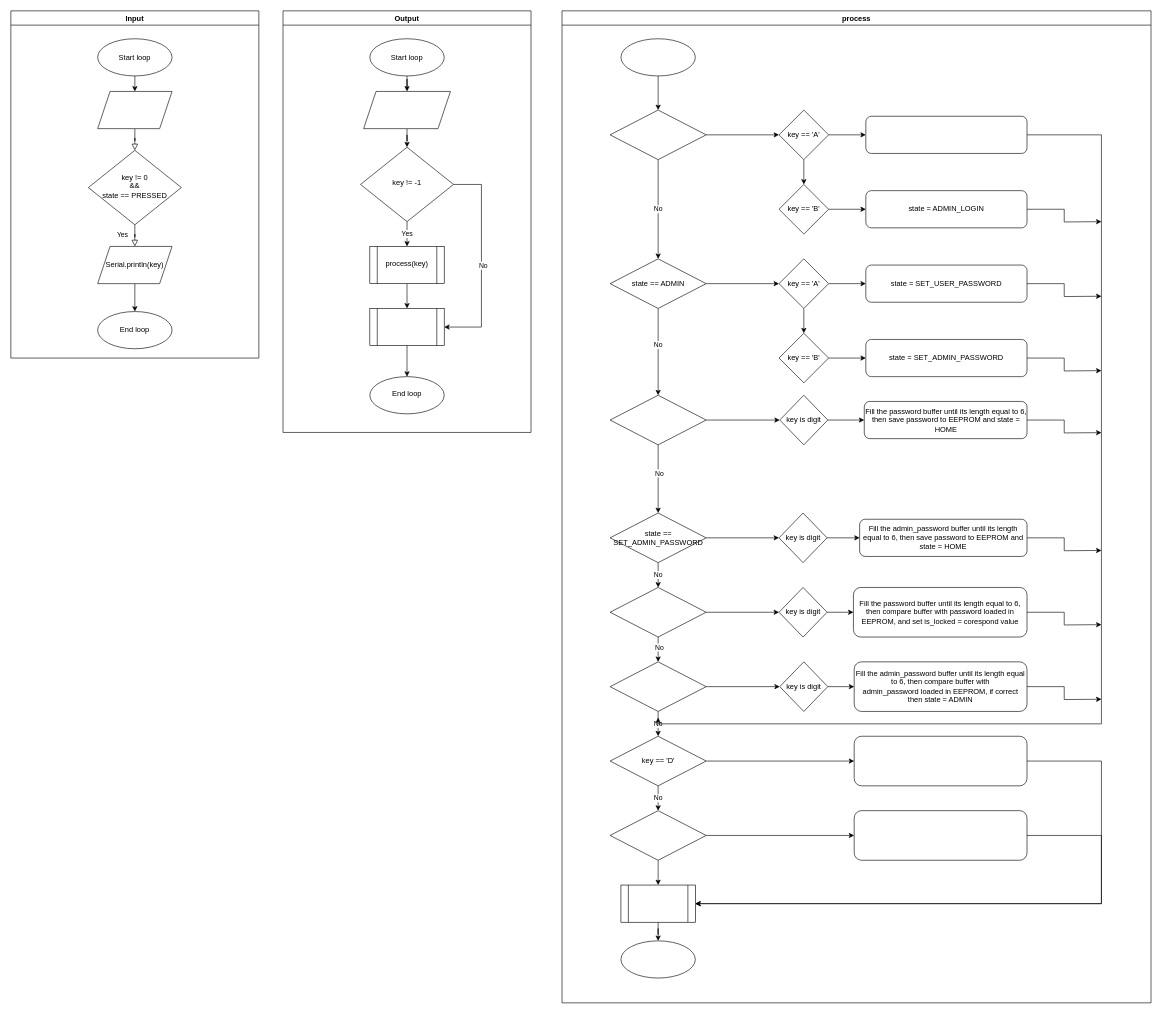
The diagram is 1162 pixels wide and 1014 high, and some of its shapes have lost their labels. Each missing label, with the centre of its shape:
"End process" goes at point (657, 959).
"is_locked = true" goes at point (940, 761).
"key = getKey()" goes at point (134, 110).
"key = Serial.read()" goes at point (406, 110).
"key == 'C'" goes at point (657, 835).
"key_sound()" goes at point (657, 903).
"render()" goes at point (406, 327).
"Start process" goes at point (657, 57).
"state = HOME" goes at point (940, 835).
"state = USER_LOGIN" goes at point (946, 134).
"state == ADMIN_LOGIN" goes at point (657, 686).
"state == HOME" goes at point (657, 134).
"state == SET_USER_PASSWORD" goes at point (657, 420).
"state == USER_LOGIN" goes at point (657, 612).
